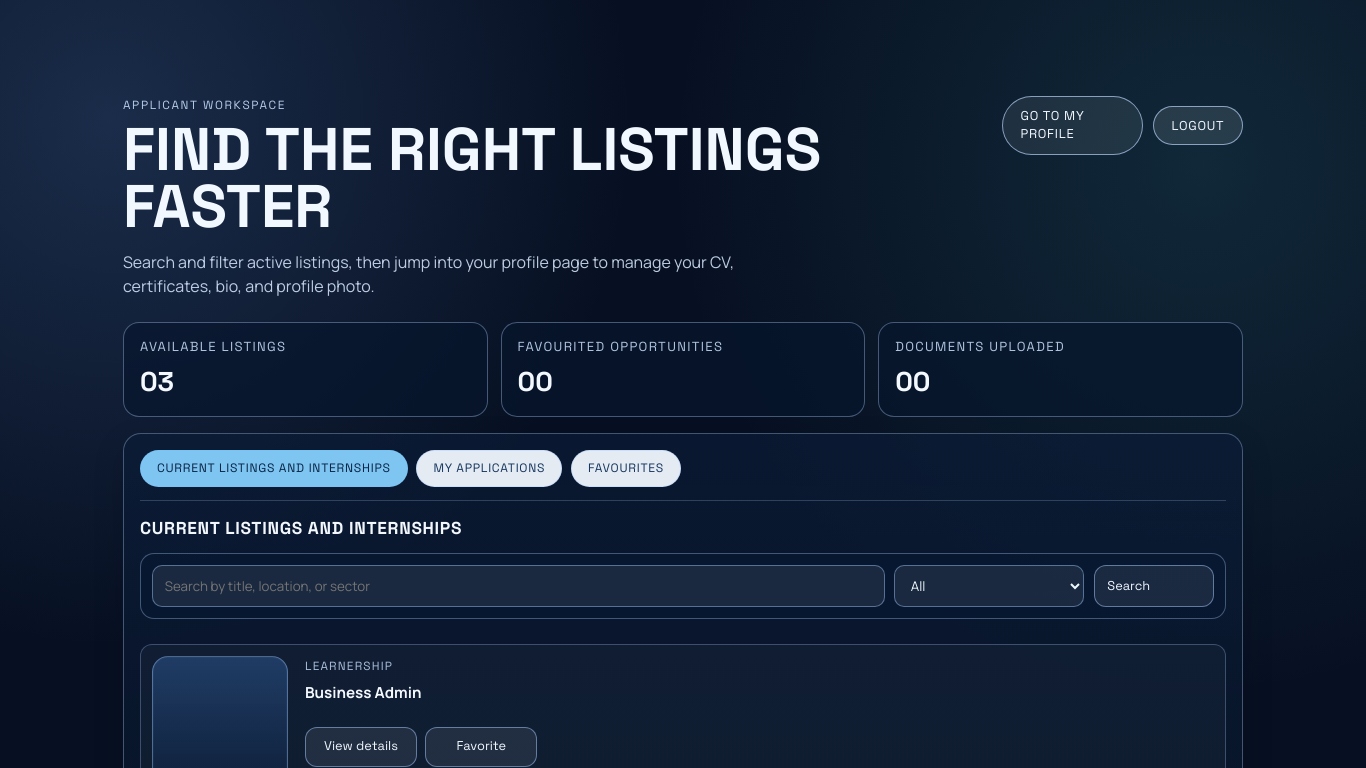
Dashboard acceptance tests › handles multiple search operations with timeout cleanup
Note: First search
Type "Business" into the search field with placeholder "Search by title, location, or sector".
click(518, 586); type("Business")  # box [152,565,885,607]
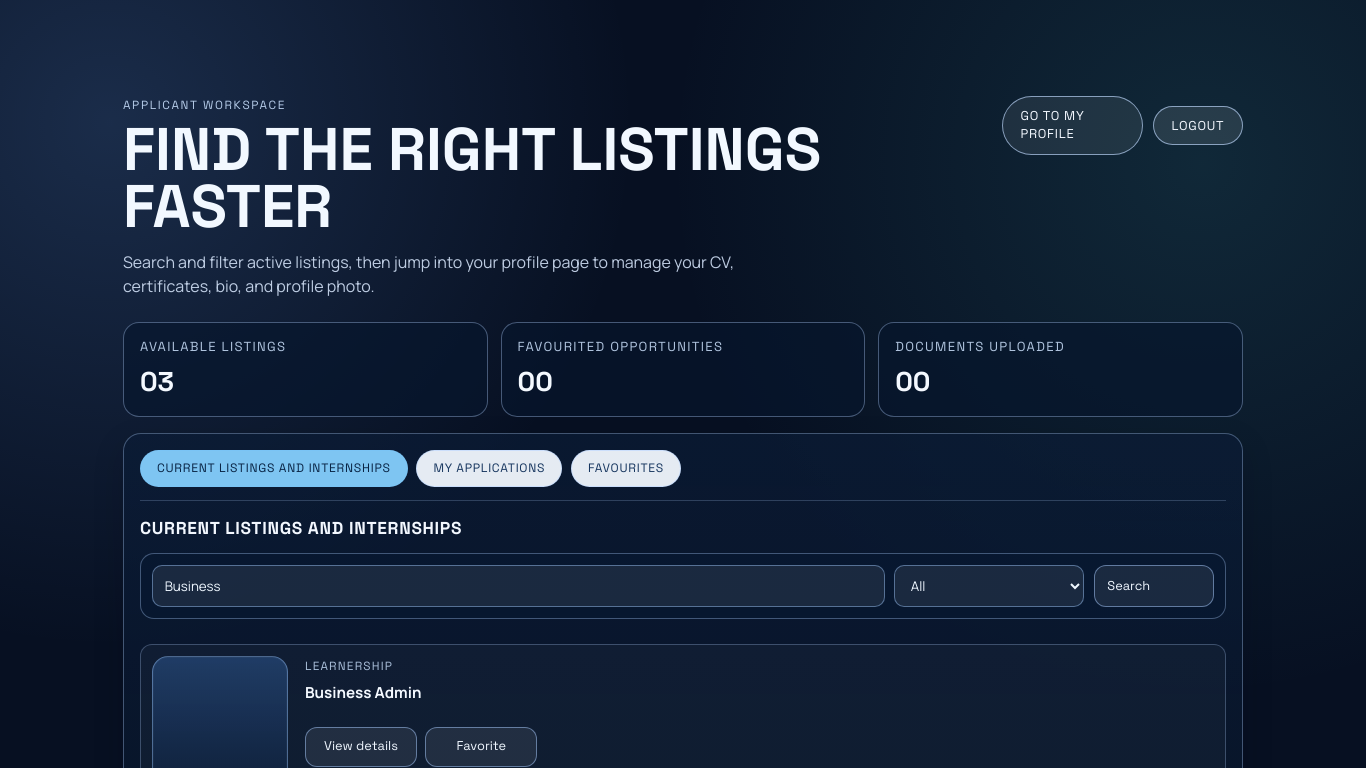
Submit the form with placeholder "Search by title, location, or sector", box [140,553,1226,619]
Expected: the text "Business Admin" is shown, [305,682,422,703]
Note: Second search immediately after (tests timeout clearing)
Replace the text in the search field with placeholder "Search by title, location, or sector" with "IT" at (518,586), box [152,565,885,607]
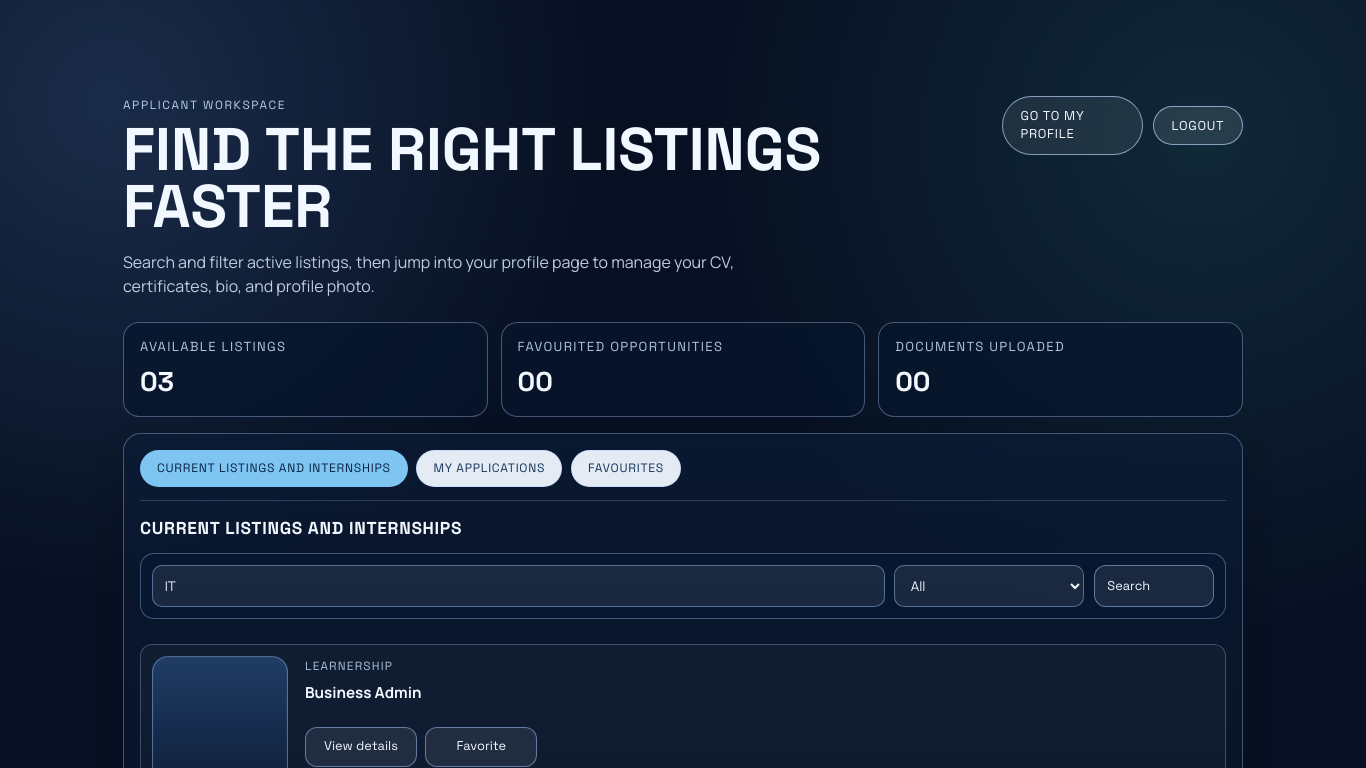
Submit the form with placeholder "Search by title, location, or sector", box [140,553,1226,619]
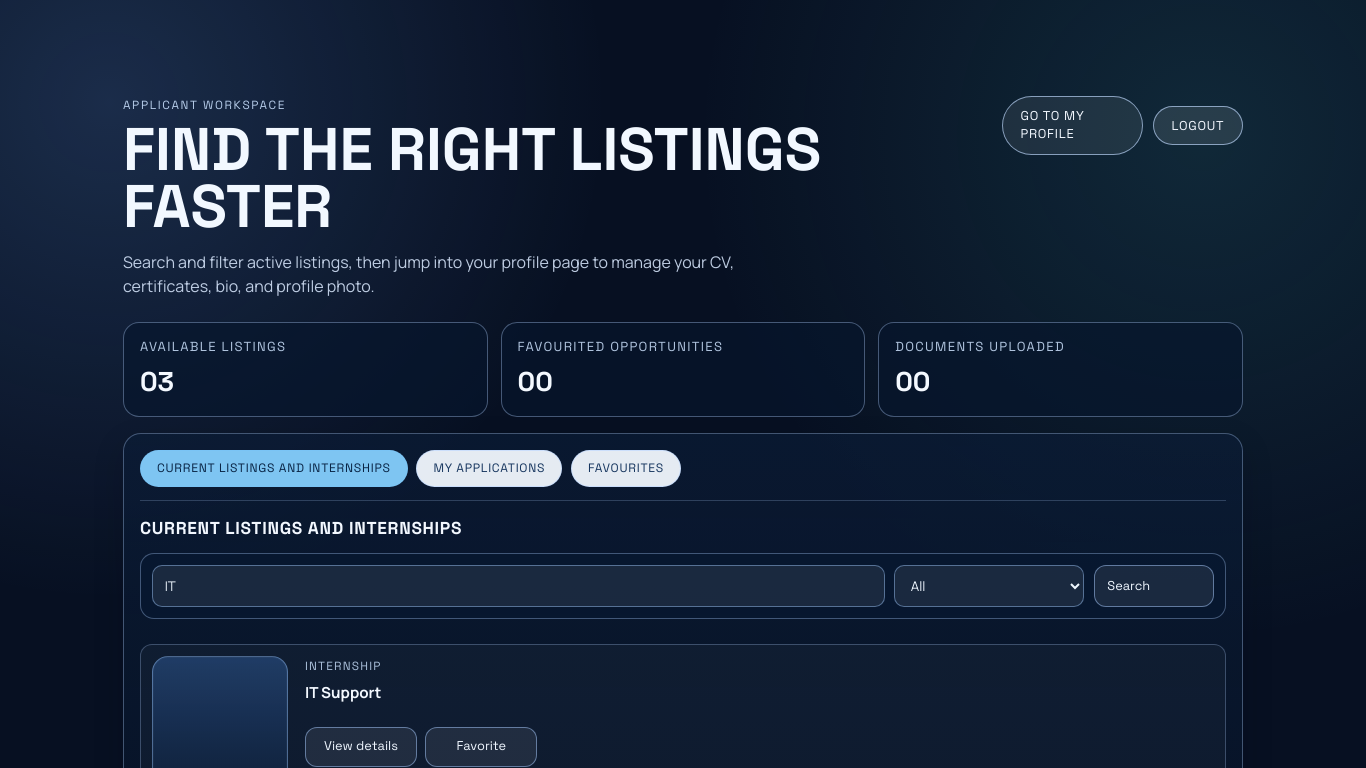
Expected: the text "IT Support" is shown, [305,682,381,703]
